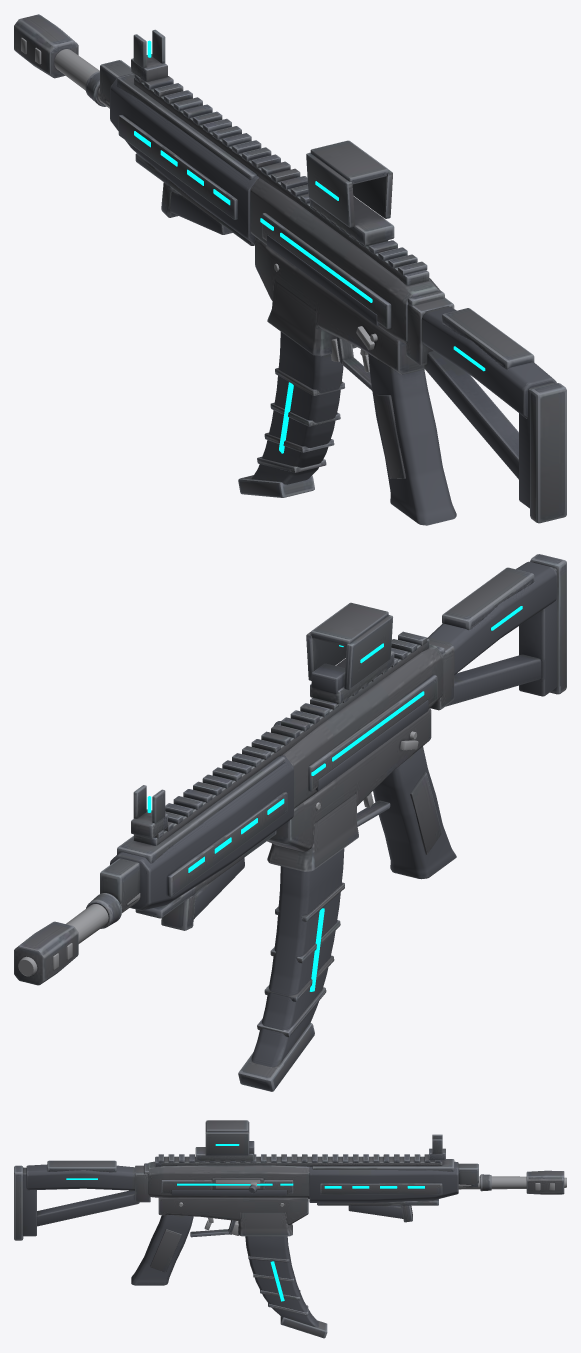
Rendered from ar47_opt.glb.
The picture shows the model from 3 angles, top to bottom: view 1: azimuth 30°, elevation 25°; view 2: azimuth 150°, elevation 25°; view 3: azimuth 270°, elevation 25°; orthographic projection. The views are drawn at different scales.
Visible parts, largest first — view 1: AR47_ReceiverMetal, AR47_PolymerDark, AR47_AccentSteel, AR47_CyanEmissive; view 2: AR47_ReceiverMetal, AR47_PolymerDark, AR47_AccentSteel, AR47_CyanEmissive; view 3: AR47_ReceiverMetal, AR47_PolymerDark, AR47_AccentSteel, AR47_CyanEmissive.
Part boxes in pixels (bbox=[...]): AR47_ReceiverMetal: bbox=[14, 14, 566, 523]; AR47_PolymerDark: bbox=[110, 73, 556, 525]; AR47_AccentSteel: bbox=[21, 37, 377, 372]; AR47_CyanEmissive: bbox=[134, 40, 485, 453]; AR47_ReceiverMetal: bbox=[14, 554, 566, 1091]; AR47_PolymerDark: bbox=[110, 561, 557, 1067]; AR47_AccentSteel: bbox=[18, 731, 418, 976]; AR47_CyanEmissive: bbox=[147, 606, 522, 991]; AR47_ReceiverMetal: bbox=[14, 1120, 564, 1338]; AR47_PolymerDark: bbox=[23, 1141, 458, 1327]; AR47_AccentSteel: bbox=[179, 1176, 566, 1235]; AR47_CyanEmissive: bbox=[66, 1144, 424, 1301].
Bounding box in the file's own units: 0.0643 × 0.3134 × 0.75.
4 materials, 4 textured.
